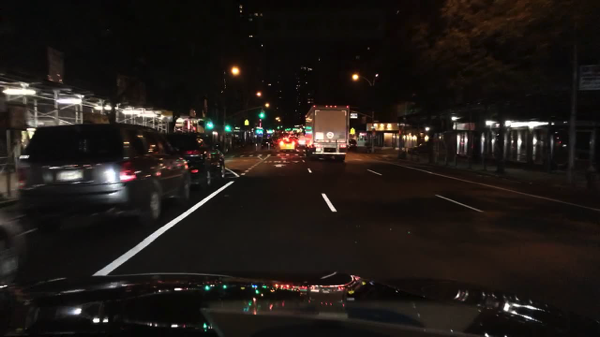car: (16, 123, 191, 231), (165, 133, 226, 190), (0, 207, 30, 285), (405, 141, 433, 155), (279, 138, 295, 153), (212, 142, 228, 155), (296, 144, 310, 156), (259, 139, 275, 149), (347, 139, 357, 151), (298, 133, 304, 147), (280, 132, 288, 139), (271, 133, 279, 139), (262, 134, 271, 139), (272, 137, 278, 144), (288, 133, 294, 137)
person: (233, 135, 237, 148), (238, 138, 242, 146), (250, 135, 253, 145), (254, 136, 256, 146)
traffic light: (205, 122, 214, 130), (258, 111, 265, 119), (254, 129, 263, 135), (224, 126, 231, 132), (397, 129, 403, 135), (192, 129, 198, 134), (276, 125, 281, 131), (267, 130, 272, 134)
traffic sign: (48, 46, 66, 85), (579, 65, 598, 91), (349, 128, 355, 134), (350, 114, 357, 119), (244, 119, 249, 125)
truck: (303, 104, 348, 162)
